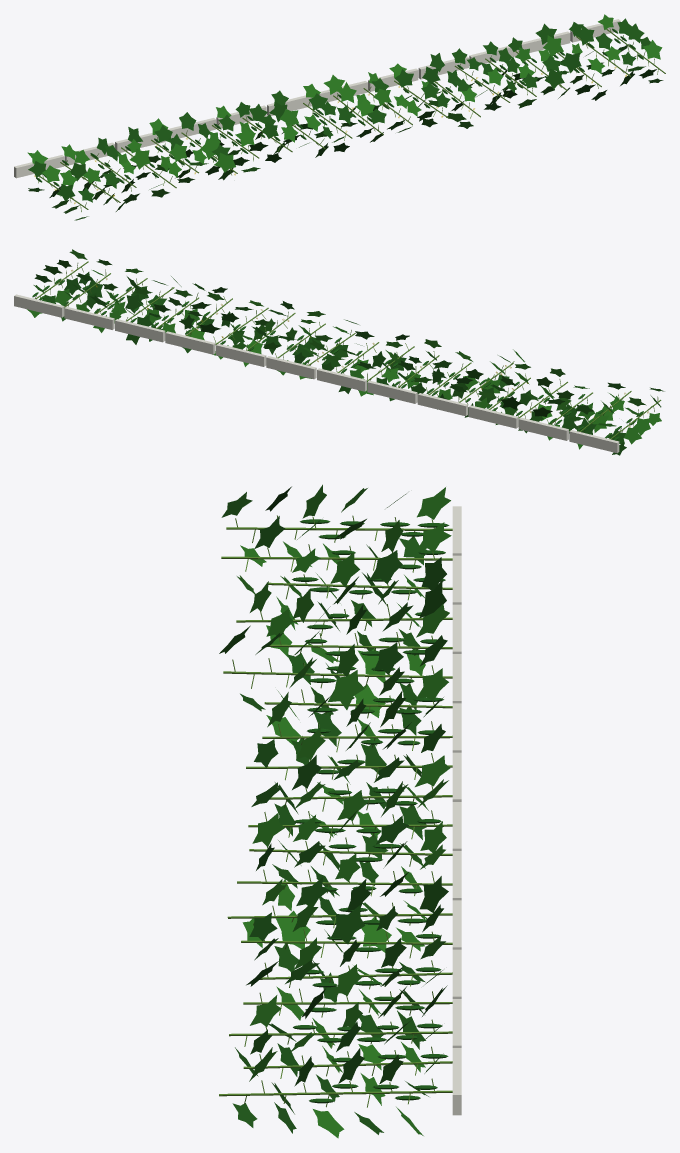
Rendered from row7.obj.
3 views of the same model, one above another, from view 1: azimuth 30°, elevation 25°; view 2: azimuth 150°, elevation 25°; view 3: azimuth 270°, elevation 25° (orthographic). The views are drawn at different scales.
Visible parts, largest first — view 1: row7; view 2: row7; view 3: row7.
Part boxes in pixels (left/top/right/bottom): row7: left=14, top=14, right=665, bottom=220; row7: left=14, top=249, right=664, bottom=455; row7: left=219, top=484, right=461, bottom=1138.
Bounding box in the file's own units: 12.48 × 0.9271 × 2.17.
